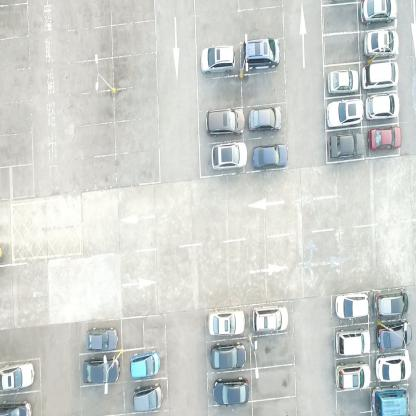car: (360, 60, 399, 92), (242, 36, 281, 68), (325, 96, 365, 127), (211, 139, 248, 172), (372, 383, 410, 415), (372, 286, 410, 318), (327, 130, 365, 162), (207, 307, 246, 337), (0, 360, 35, 393), (375, 320, 412, 351), (212, 376, 250, 406), (82, 356, 121, 385), (210, 341, 247, 371), (252, 304, 290, 333), (200, 44, 235, 75), (376, 353, 412, 383), (206, 109, 244, 137), (362, 30, 399, 58), (336, 360, 370, 390), (248, 104, 282, 134), (335, 327, 370, 356), (132, 382, 164, 413), (334, 291, 369, 319), (366, 125, 402, 152), (130, 348, 160, 380), (360, 0, 398, 25), (365, 93, 400, 120), (252, 144, 288, 168), (85, 326, 118, 352), (327, 68, 359, 94), (0, 400, 33, 415)
